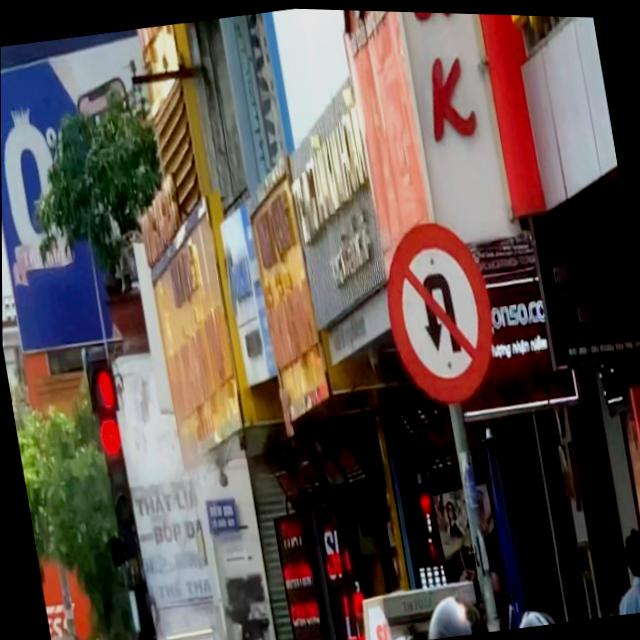Cam quay dau xe: (371, 208, 510, 410)
